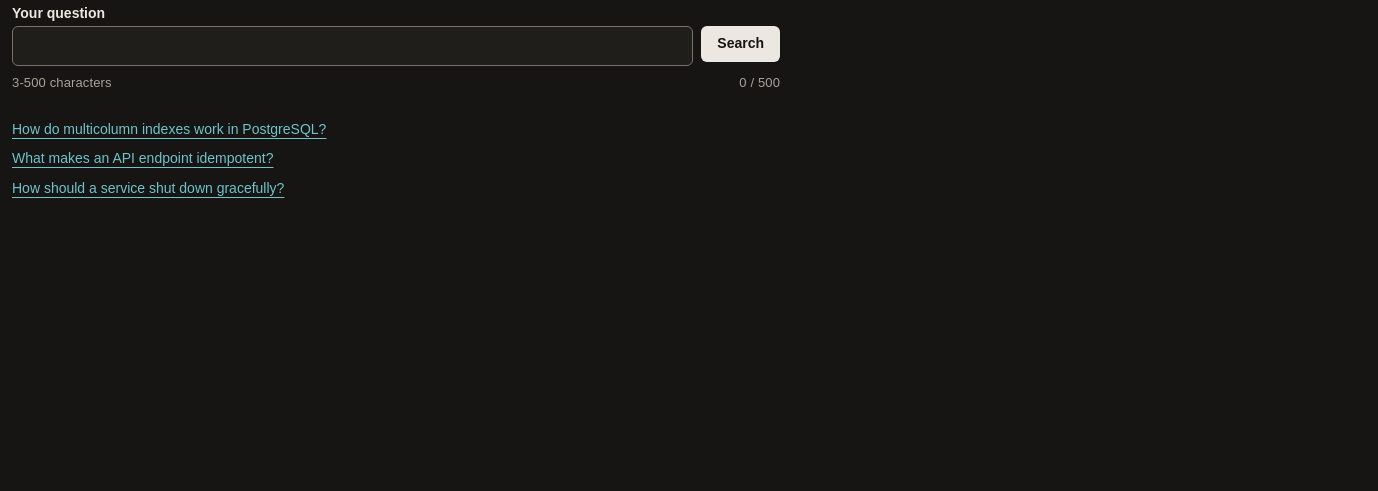
Test: results › passages: focused h2, count, route preview, safe citations, plain-text excerpts, scores only in the disclosure
This screenshot has width=1378, height=491.
Later steps or results of the test are not shown.
Type "What is a multicolumn index?" into the search field labelled "Your question" at (353,46), box top-left (12, 26), bottom-right (693, 66)
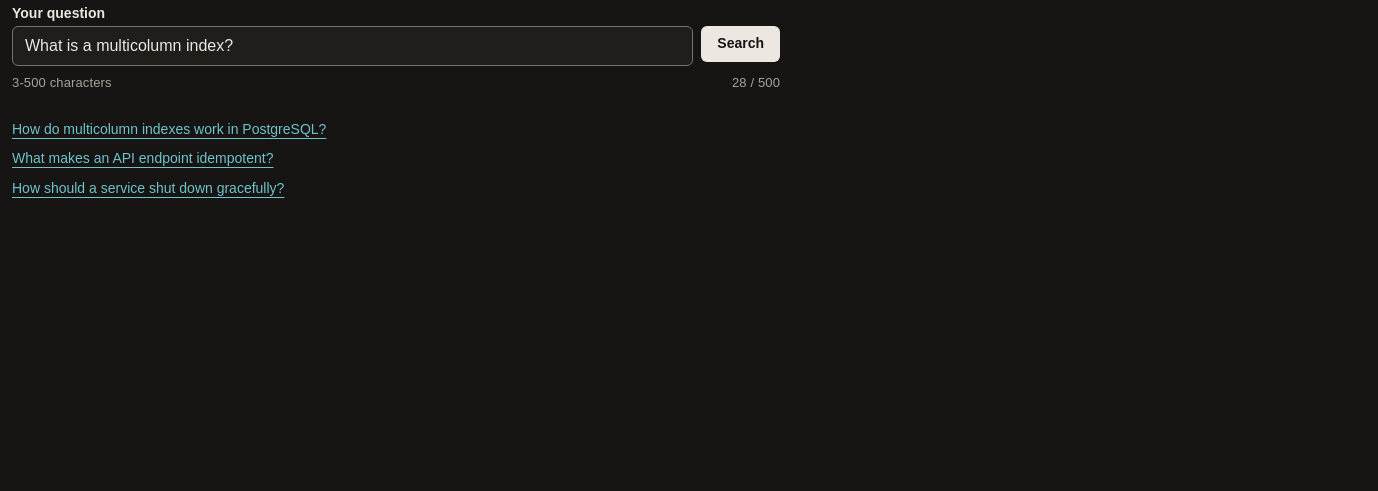
Click the button "Search" at (741,44), box top-left (701, 26), bottom-right (780, 62)
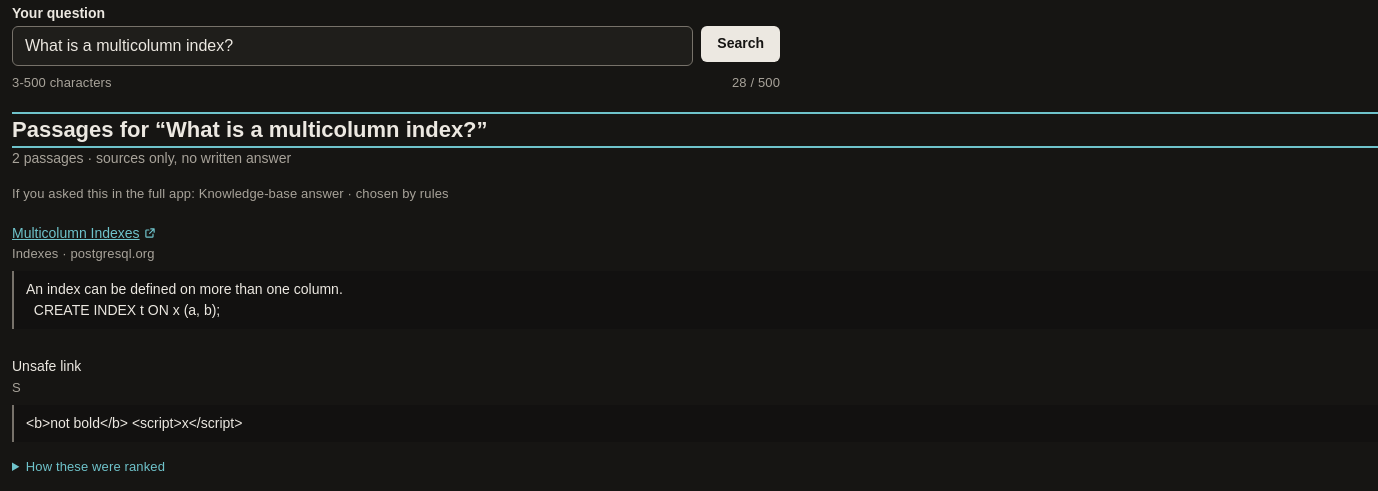
Expected: the heading "Passages for “What is a multicolumn index?”" is shown, top-left (12, 117), bottom-right (488, 142)
Expected: the text "2 passages · sources only, no written answer" is shown, top-left (12, 150), bottom-right (291, 166)
Expected: the text "If you asked this in the full app: Knowledge-base answer · chosen by rules" is shown, top-left (12, 186), bottom-right (449, 201)
